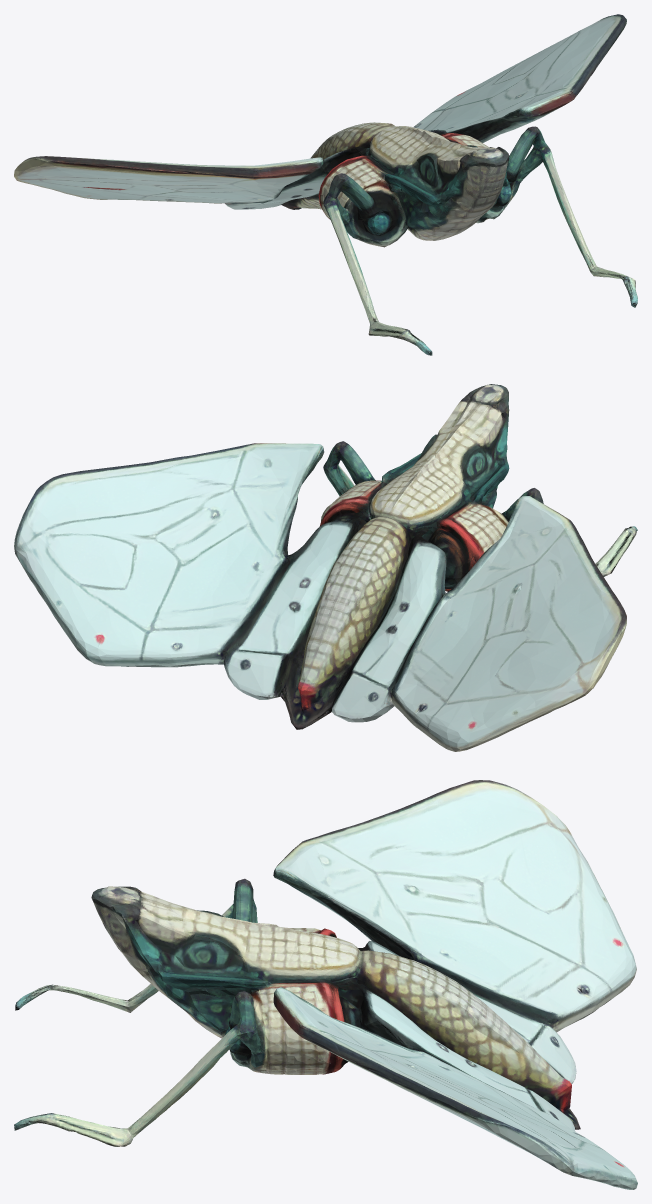
File: Moth Scout.glb
The picture shows the model from 3 angles, top to bottom: view 1: azimuth 30°, elevation 25°; view 2: azimuth 150°, elevation 25°; view 3: azimuth 270°, elevation 25°; orthographic projection. The views are drawn at different scales.
Parts seen in each view (by area): view 1: world; view 2: world; view 3: world.
Part boxes in pixels (x1=…): world: x1=14, y1=14, x2=637, y2=355; world: x1=14, y1=384, x2=637, y2=751; world: x1=14, y1=780, x2=637, y2=1189.
Bounding box in the file's own units: 1 × 0.3266 × 0.7712.
1 material, 1 textured.
